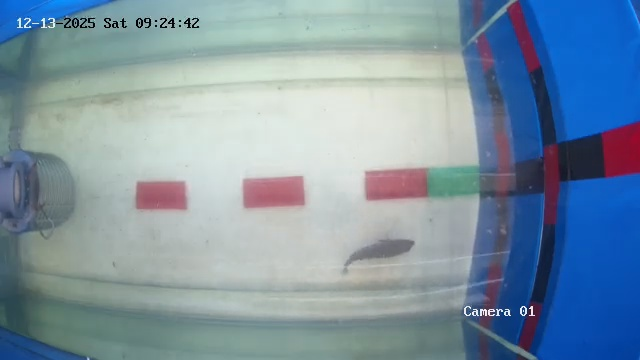fish: (347, 221, 396, 280)
